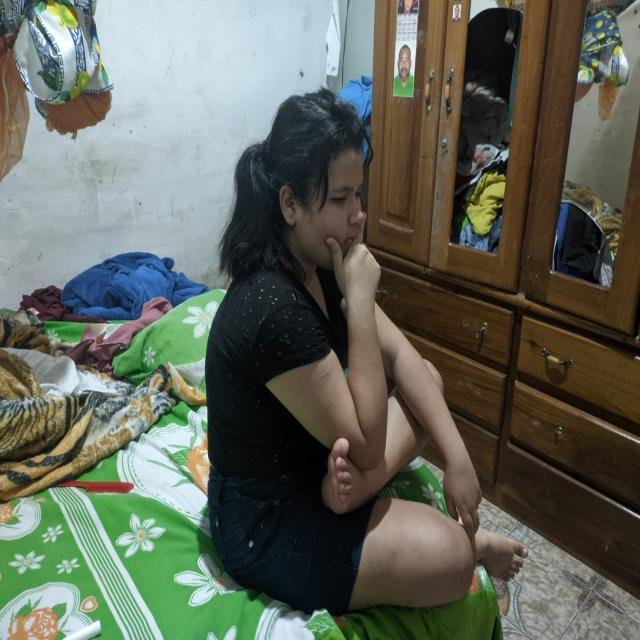sentado: (206, 92, 511, 618)
